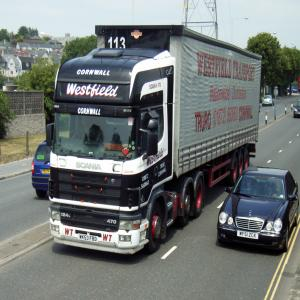Vehicle-registration-plate: (238, 232, 259, 241), (79, 235, 99, 243), (43, 170, 51, 175)
